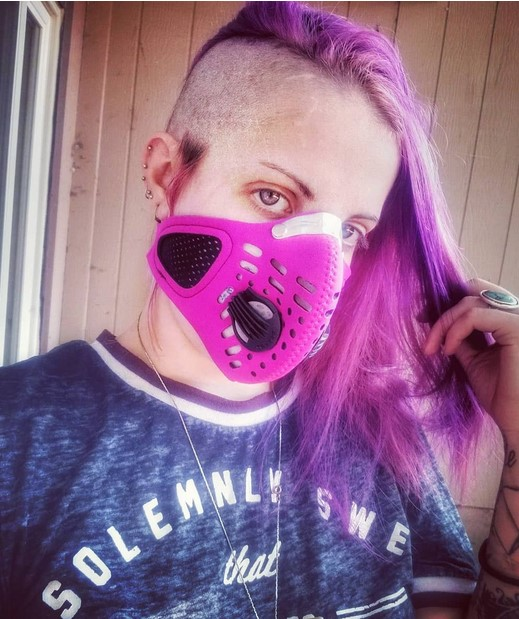face_with_mask: (143, 7, 427, 385)
